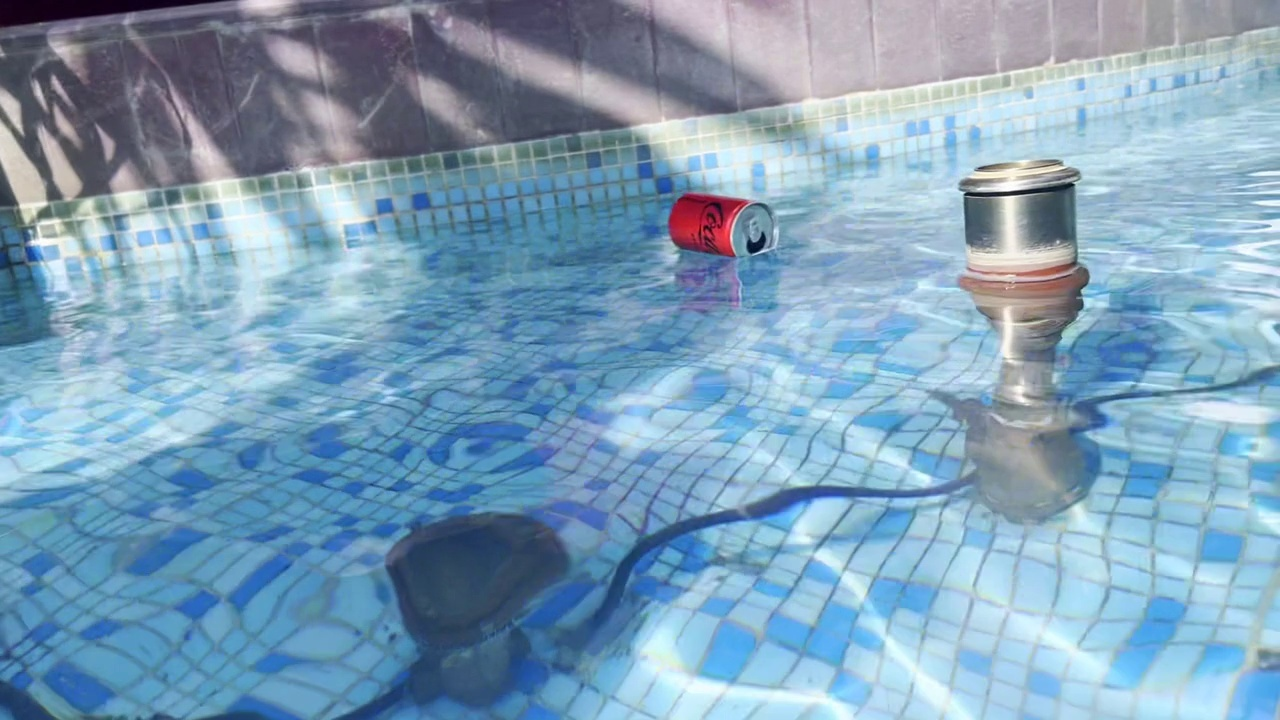debris: (656, 180, 784, 265)
